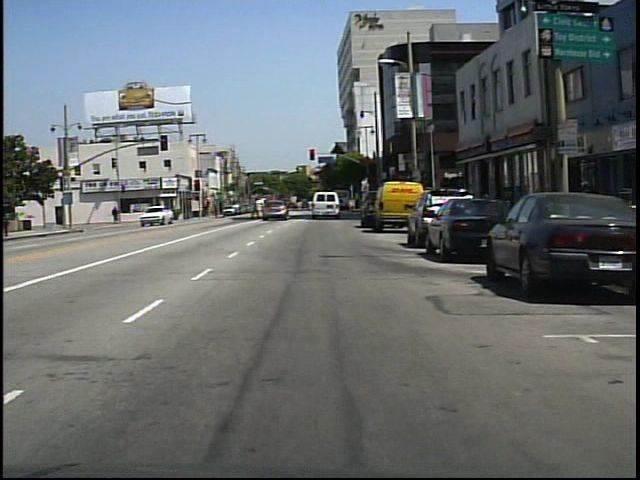person: (246, 193, 263, 222), (111, 206, 120, 225)
